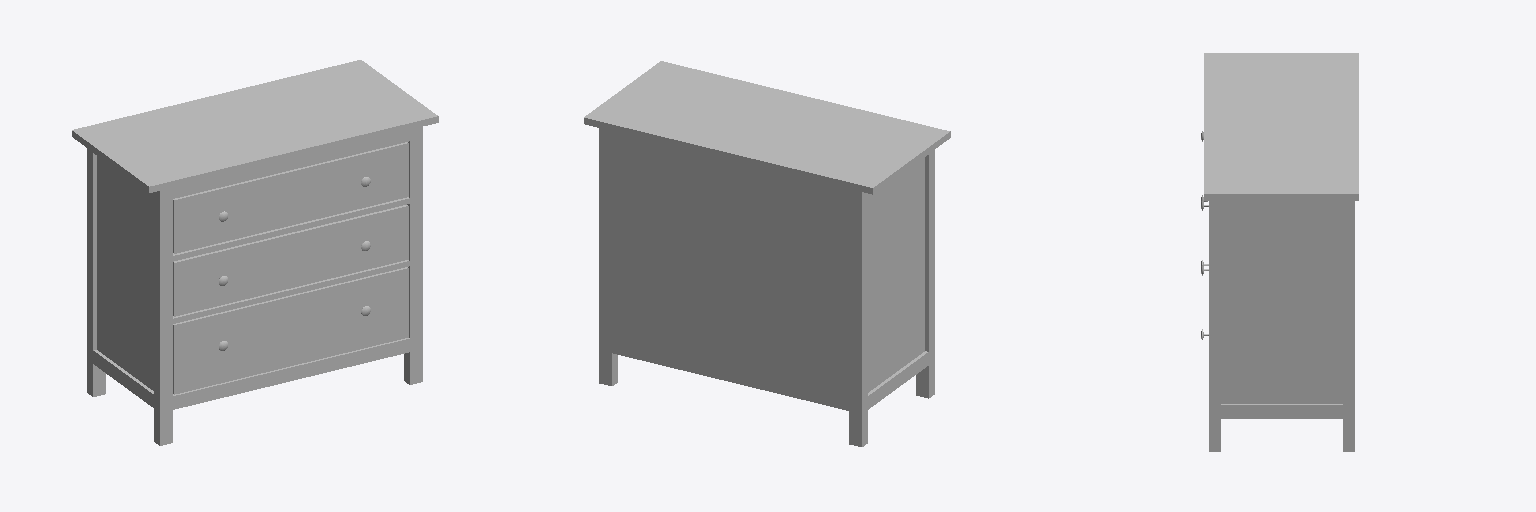
Rendered from nightstand-Drawer.obj.
3 views of the same model, side by side, from view 1: azimuth 30°, elevation 25°; view 2: azimuth 150°, elevation 25°; view 3: azimuth 270°, elevation 25° (orthographic).
Parts seen in each view (by area): view 1: Base_Cube.005, Top_Cube.004, Drawer.bottom_Cube.002, Drawer.mid_Cube.001, Drawer.top_Cube.000, Feet_Cube.003; view 2: Base_Cube.005, Top_Cube.004, Feet_Cube.003; view 3: Base_Cube.005, Top_Cube.004, Feet_Cube.003.
Boxes of the visible parts, x1,y1,x2,y2 form: Base_Cube.005: [87, 127, 422, 412]; Top_Cube.004: [72, 60, 438, 192]; Drawer.bottom_Cube.002: [173, 267, 408, 394]; Drawer.mid_Cube.001: [173, 205, 408, 316]; Drawer.top_Cube.000: [173, 142, 408, 253]; Feet_Cube.003: [87, 349, 422, 445]; Base_Cube.005: [599, 128, 934, 413]; Top_Cube.004: [584, 61, 950, 194]; Feet_Cube.003: [599, 350, 934, 446]; Base_Cube.005: [1209, 201, 1354, 418]; Top_Cube.004: [1204, 53, 1358, 200]; Feet_Cube.003: [1209, 419, 1354, 451].
Size of the model in its own units: 1.1 by 0.96 by 0.522.